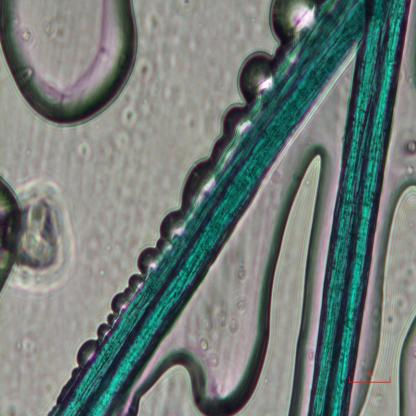Air bubble: (238, 146, 324, 414), (0, 0, 140, 128), (360, 180, 415, 416), (132, 348, 246, 416), (15, 178, 76, 292), (0, 173, 23, 298), (268, 1, 312, 48), (237, 49, 270, 103), (160, 209, 180, 240), (76, 336, 96, 363), (139, 246, 158, 274), (112, 293, 127, 314), (98, 322, 110, 340)
Background material: (184, 300, 240, 370), (0, 325, 39, 392), (112, 100, 139, 152), (128, 57, 164, 88), (73, 138, 99, 159), (181, 108, 203, 129), (95, 260, 106, 280), (408, 141, 416, 158)
Microfibre: (52, 3, 370, 415), (306, 0, 411, 416)
